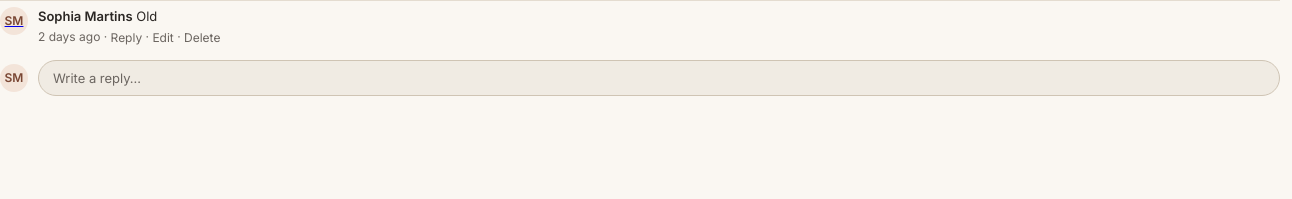
Scenario: CommentThread › edits a comment inline and sends PUT /comments/:id
Click the button "Edit" at (163, 38), box top-left (152, 26), bottom-right (174, 50)
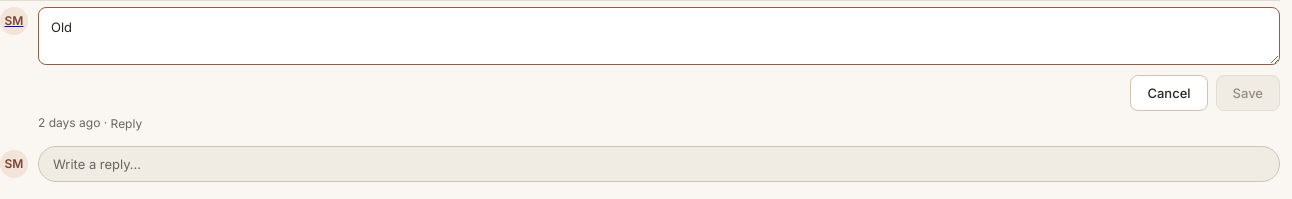
Replace the text in the text box named "Edit comment" with "New" at (659, 36), box top-left (38, 7), bottom-right (1280, 65)
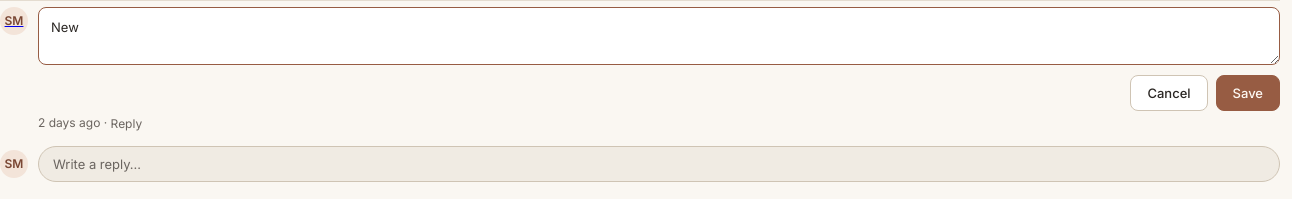
Click the button "Save" at (1248, 93), box top-left (1216, 75), bottom-right (1280, 111)
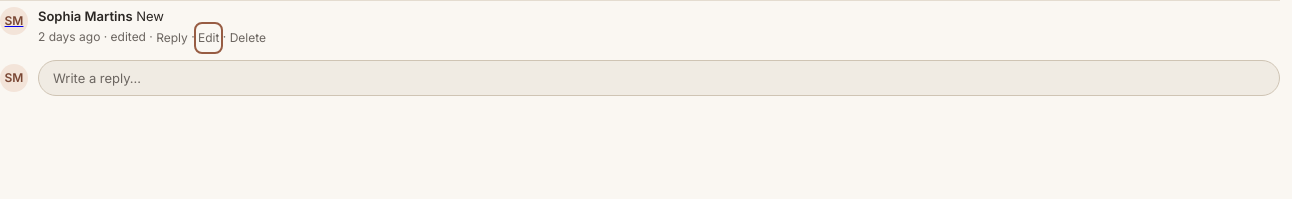
Expected: the text "New" is shown, top-left (136, 8), bottom-right (164, 24)
